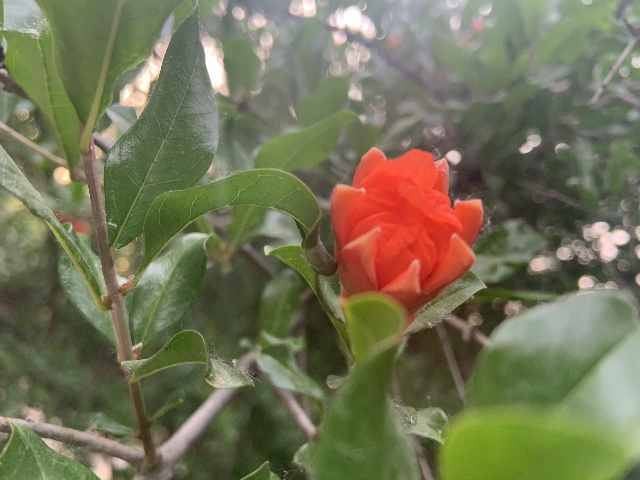flower: (328, 146, 483, 323)
